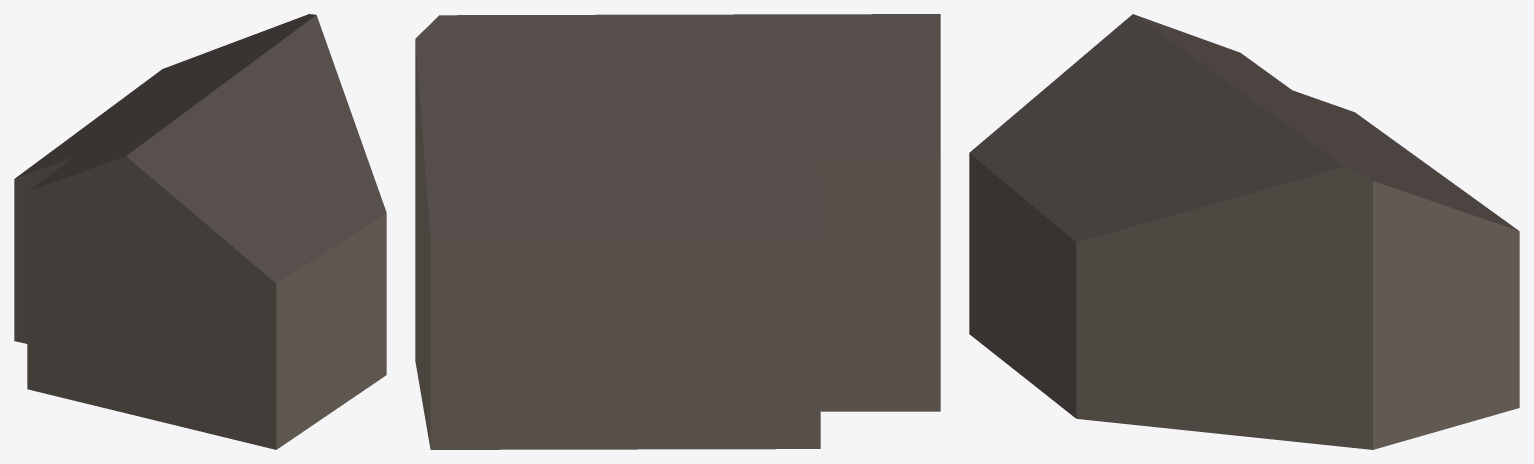
The picture shows the model from 3 angles, left to right: view 1: azimuth 30°, elevation 25°; view 2: azimuth 150°, elevation 25°; view 3: azimuth 270°, elevation 25°; orthographic projection. The views are drawn at different scales.
Visible parts, largest first — view 1: HP-w369237993; view 2: HP-w369237993; view 3: HP-w369237993.
Boxes of the visible parts, x1,y1,x2,y2 form: HP-w369237993: (14, 14, 386, 449); HP-w369237993: (415, 14, 940, 449); HP-w369237993: (969, 14, 1519, 449).
Bounding box in the file's own units: 13.28 × 9.52 × 16.96.
